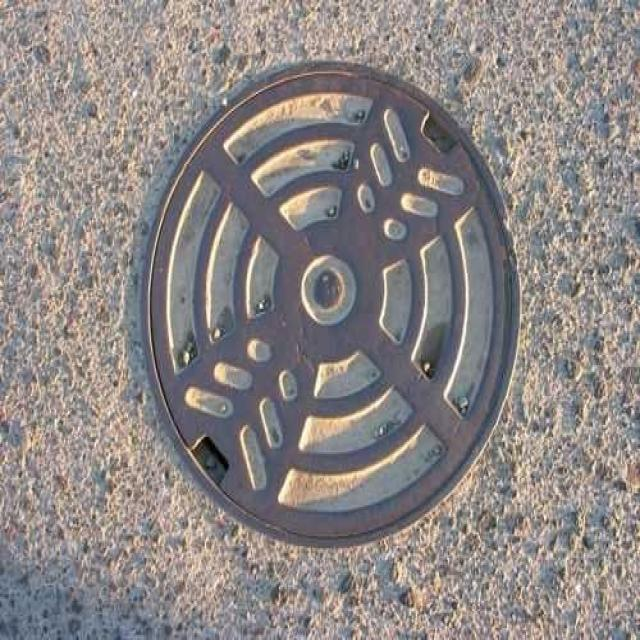manhole: (142, 63, 519, 545)
